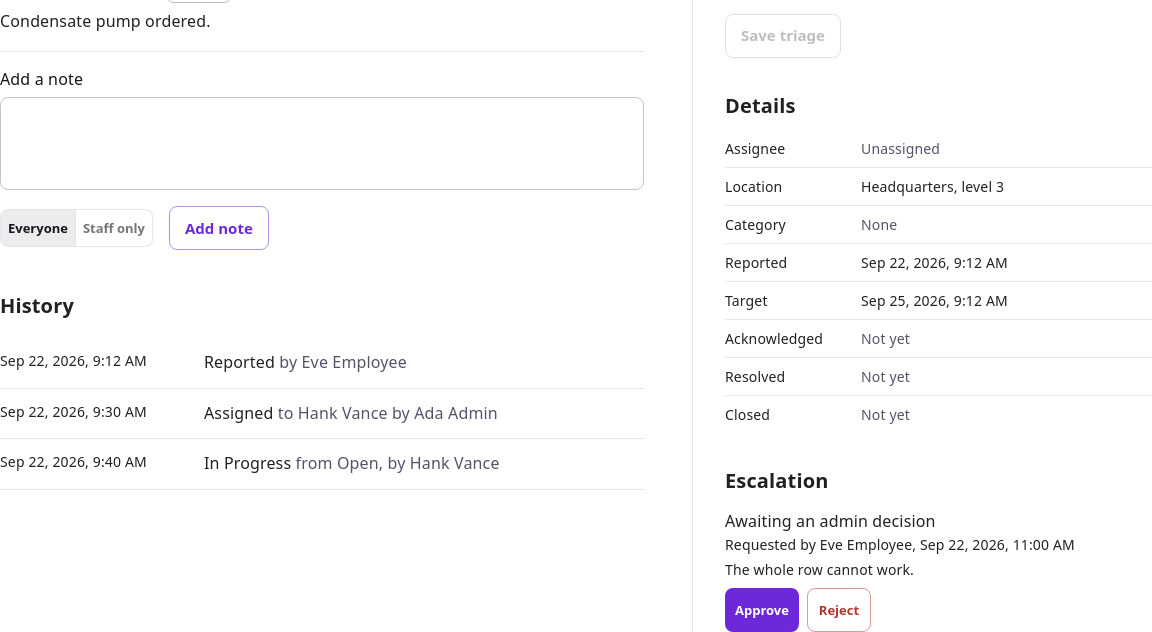
Scenario: IncidentPage › lets an admin approve a pending escalation from the incident
This screenshot has width=1152, height=632.
(page scrolled)
Expected: the text "Awaiting an admin decision" is shown, top-left (725, 510), bottom-right (936, 532)
Click the button "Approve" at (762, 610), box top-left (725, 588), bottom-right (799, 631)
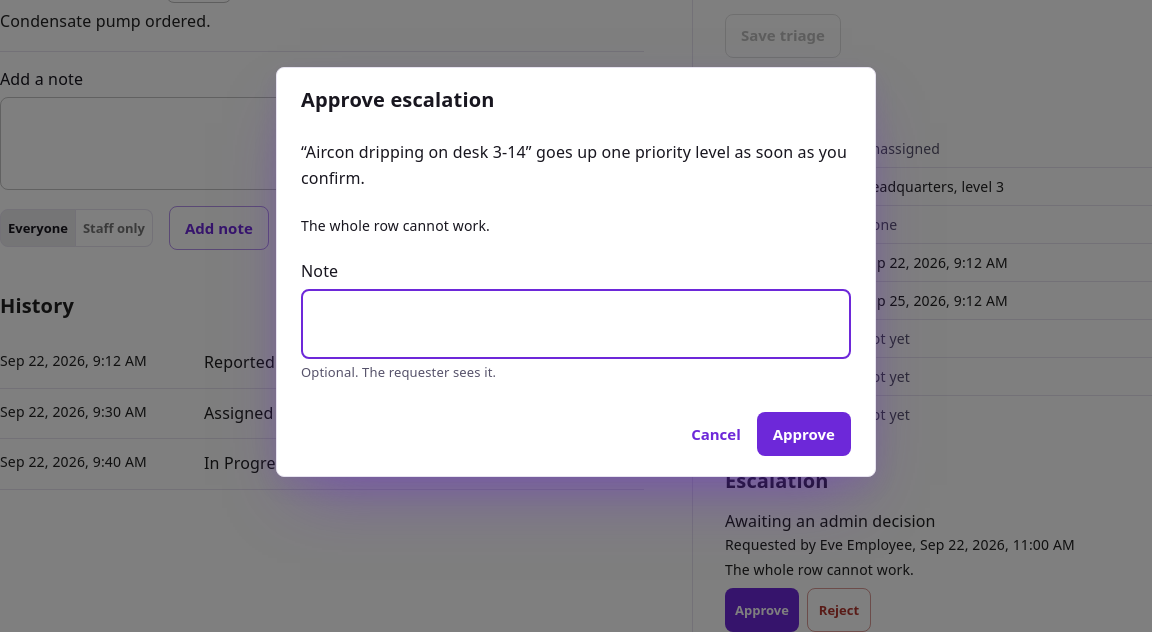
Click the button "Approve" at (804, 434), box top-left (757, 412), bottom-right (851, 456)
(page scrolled)
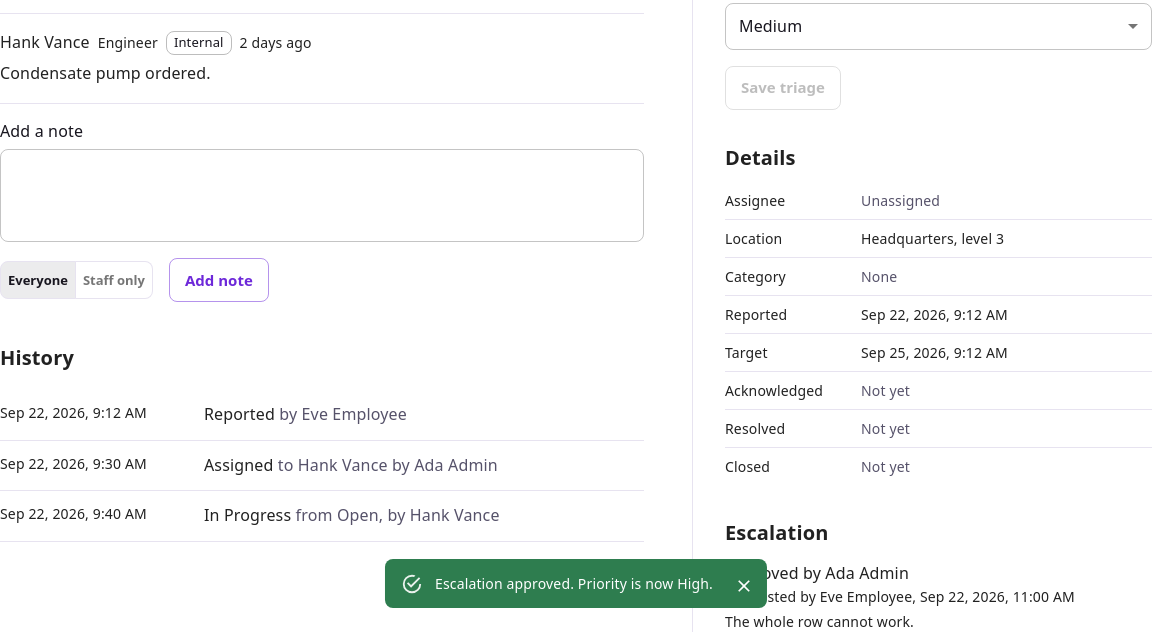
Expected: the message reads "Escalation approved. Priority is now High.", top-left (435, 574), bottom-right (713, 593)
Expected: the text "Approved by Ada Admin" is shown, top-left (725, 562), bottom-right (909, 584)
